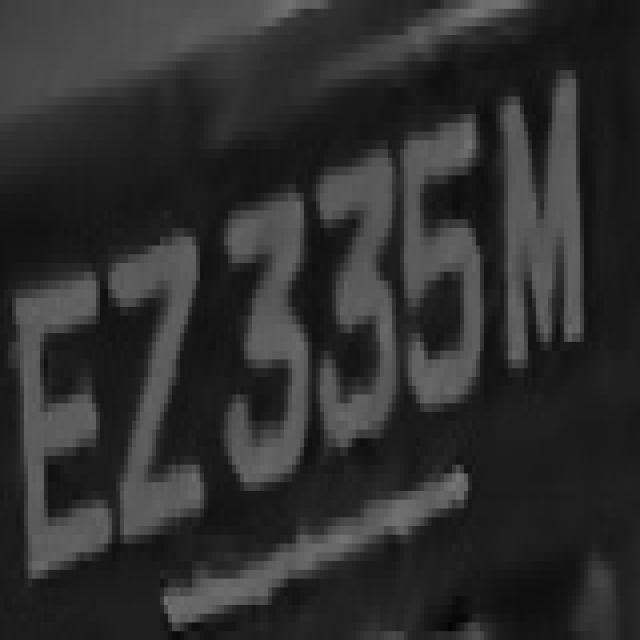3: (208, 175, 316, 526), (308, 114, 404, 456)
5: (392, 88, 488, 430)
E: (8, 219, 116, 623)
M: (488, 62, 592, 368)
Z: (104, 202, 212, 578)
